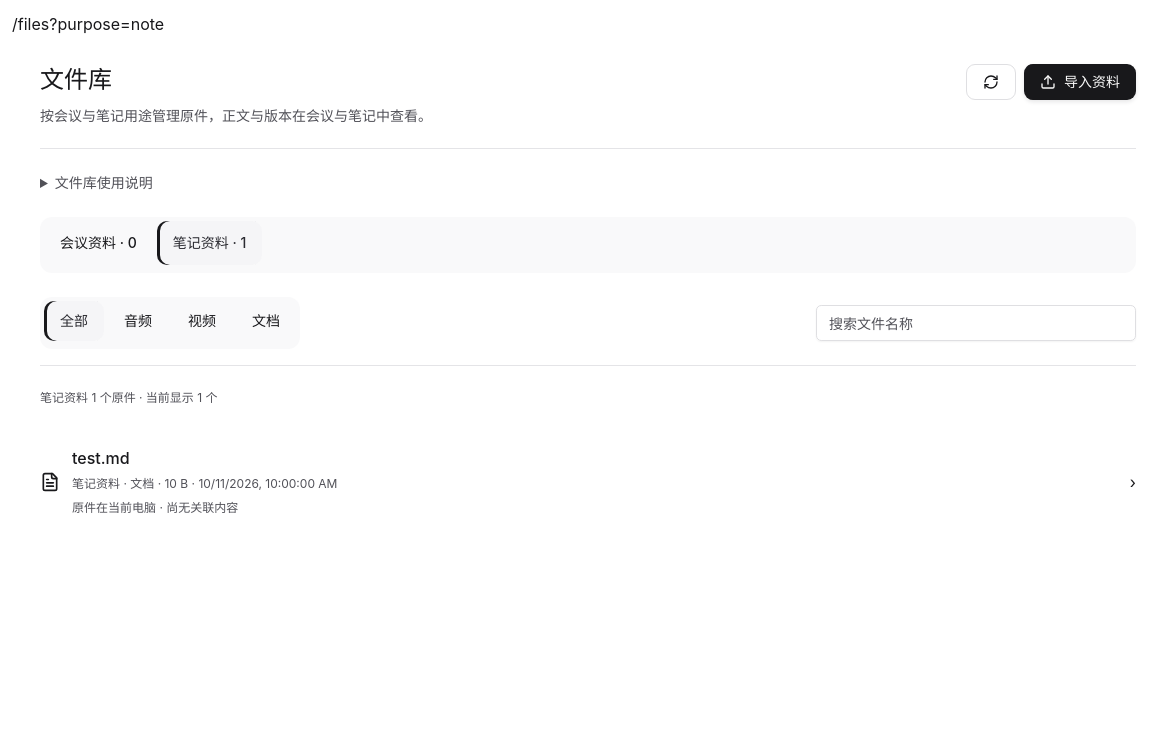
Test case: keeps already loaded files when a refresh fails and recovers in place
Check: the button "test.md" is shown, box [40,430,1136,534]
Click the button named "重新读取文件库": point(991, 82) [966,64,1016,100]
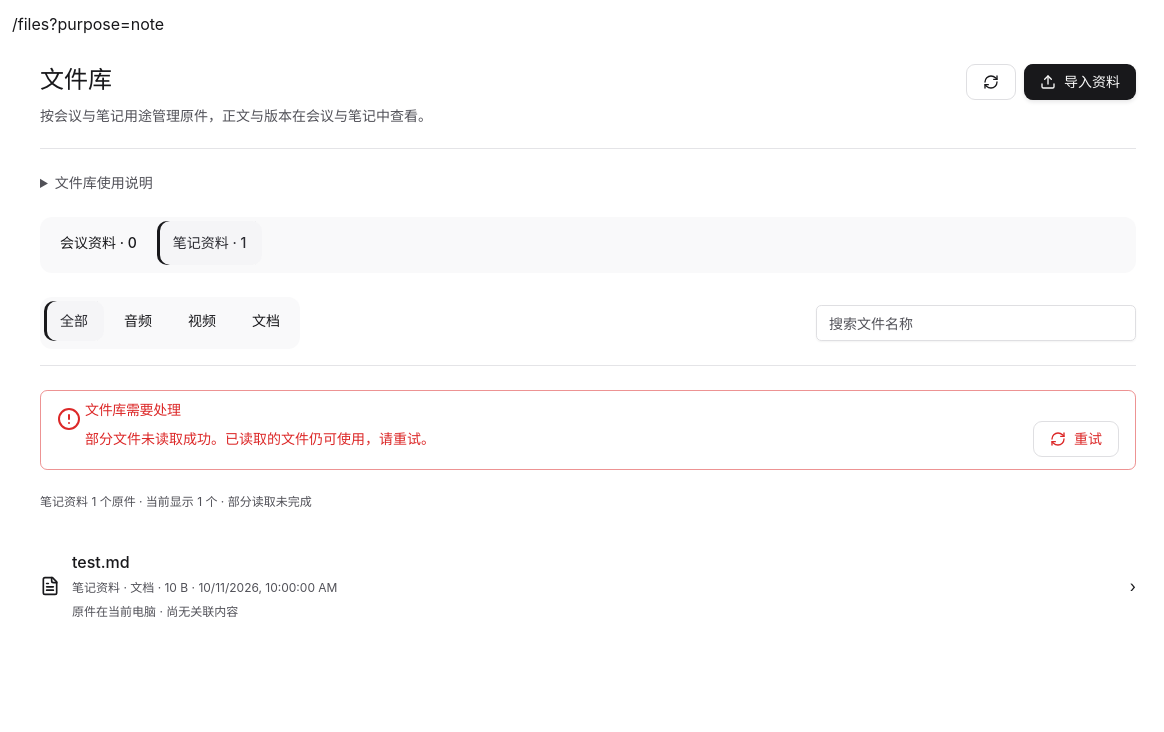
Check: the button "test.md" is shown, box [40,534,1136,638]
Check: the text "部分文件未读取成功。已读取的文件仍可使用，请重试。" is shown, box [85,429,435,449]
Click the button "重试": point(1076, 439) [1033,421,1119,457]
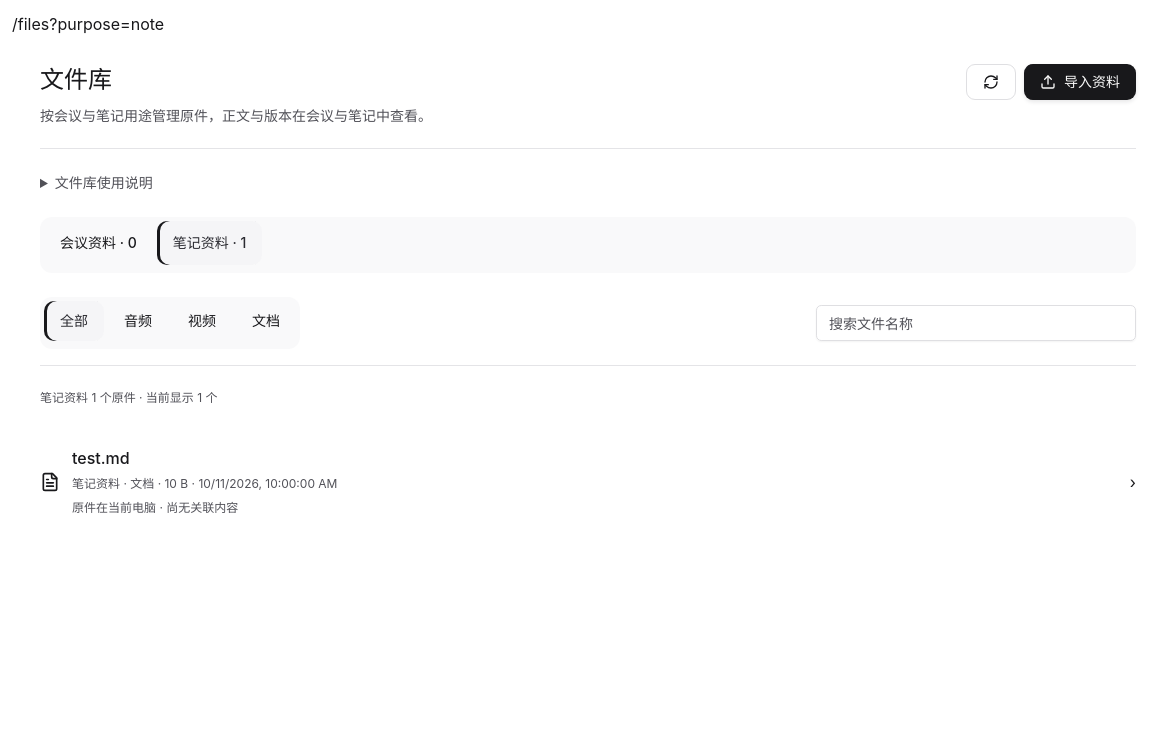
Check: the text "部分文件未读取成功" is gone
